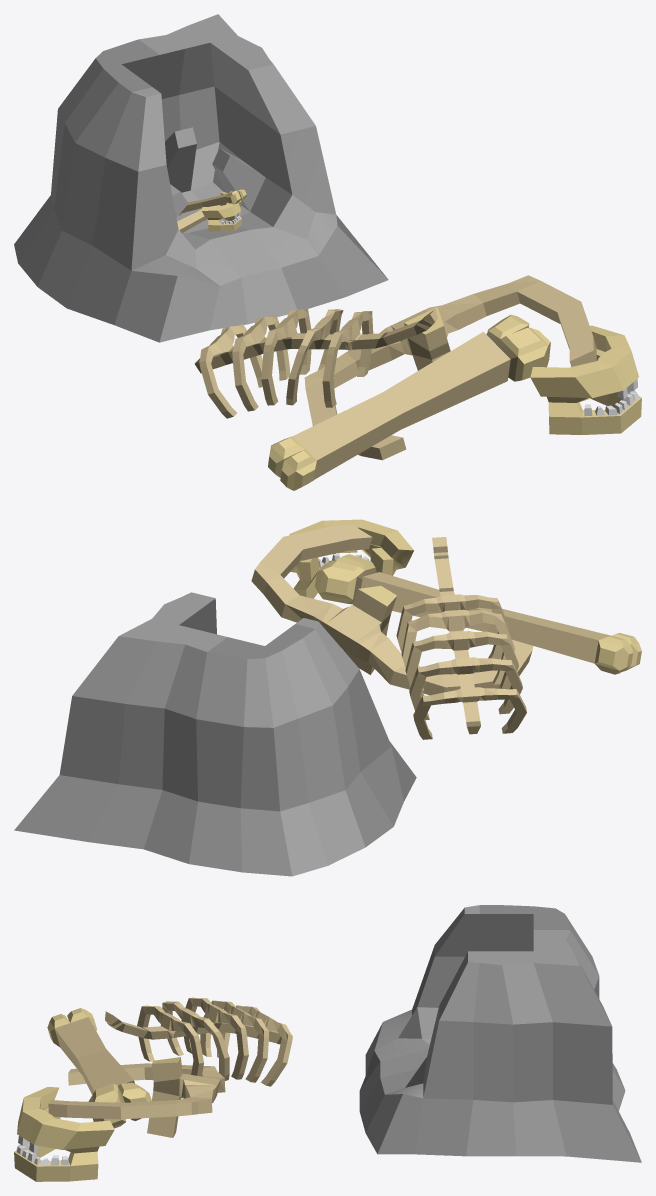
The model's file is rocasEsqueletic.fbx.
3 views of the same model, one above another, from view 1: azimuth 30°, elevation 25°; view 2: azimuth 150°, elevation 25°; view 3: azimuth 270°, elevation 25° (orthographic). The views are drawn at different scales.
Parts seen in each view (by area): view 1: Roca_Extrana, Hueso8, Columna1, Costilla_5, Cabeza_Parte_Abajo2, Cabeza_Parte_Abajo5; view 2: Roca_Extrana, Columna1, Costilla_5, Hueso8, Cabeza_Parte_Abajo2; view 3: Roca_Extrana, Columna1, Costilla_5, Cabeza_Parte_Abajo2, Hueso8.
Part boxes in pixels (x1=…): Roca_Extrana: x1=14, y1=14, x2=388, y2=342; Hueso8: x1=268, y1=314, x2=550, y2=490; Columna1: x1=195, y1=308, x2=437, y2=418; Costilla_5: x1=304, y1=275, x2=596, y2=460; Cabeza_Parte_Abajo2: x1=530, y1=325, x2=641, y2=434; Cabeza_Parte_Abajo5: x1=201, y1=192, x2=241, y2=231; Roca_Extrana: x1=14, y1=592, x2=416, y2=876; Columna1: x1=396, y1=537, x2=526, y2=739; Costilla_5: x1=251, y1=524, x2=533, y2=695; Hueso8: x1=314, y1=554, x2=641, y2=674; Cabeza_Parte_Abajo2: x1=289, y1=519, x2=413, y2=598; Roca_Extrana: x1=359, y1=905, x2=641, y2=1162; Columna1: x1=105, y1=997, x2=292, y2=1086; Costilla_5: x1=48, y1=1057, x2=225, y2=1137; Cabeza_Parte_Abajo2: x1=14, y1=1087, x2=114, y2=1181; Hueso8: x1=47, y1=1008, x2=151, y2=1128.
Bounding box in the file's own units: 2.46 × 1.37 × 4.39.
